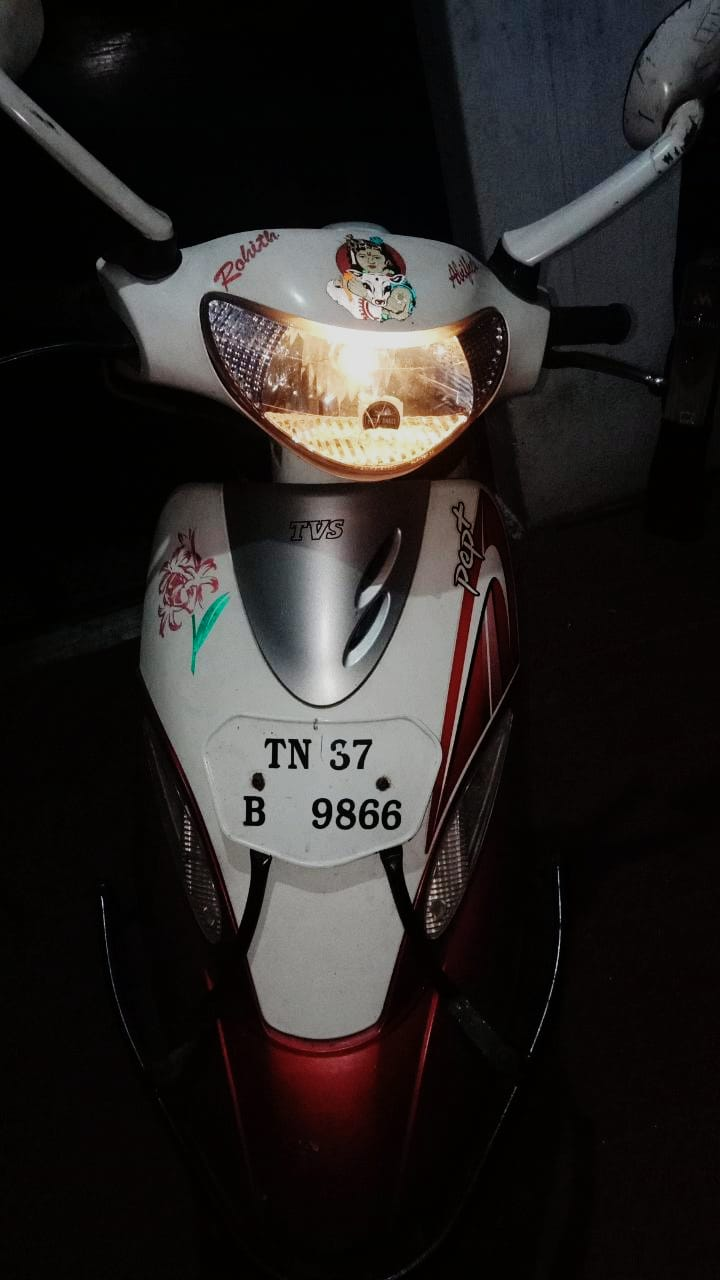numberplate: (192, 716, 442, 867)
scooter: (7, 61, 720, 1238)
